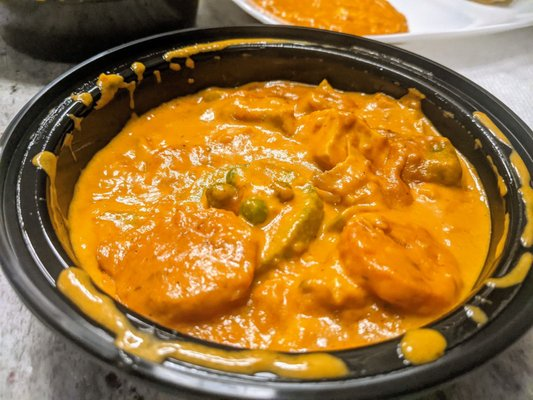burger: (29, 264, 497, 400)
sushi: (6, 18, 532, 396)
